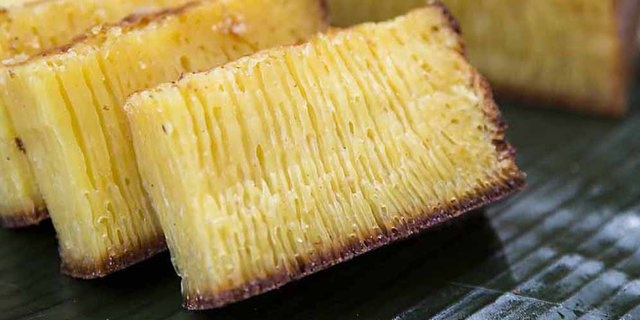bika_ambon: (120, 6, 536, 304)
